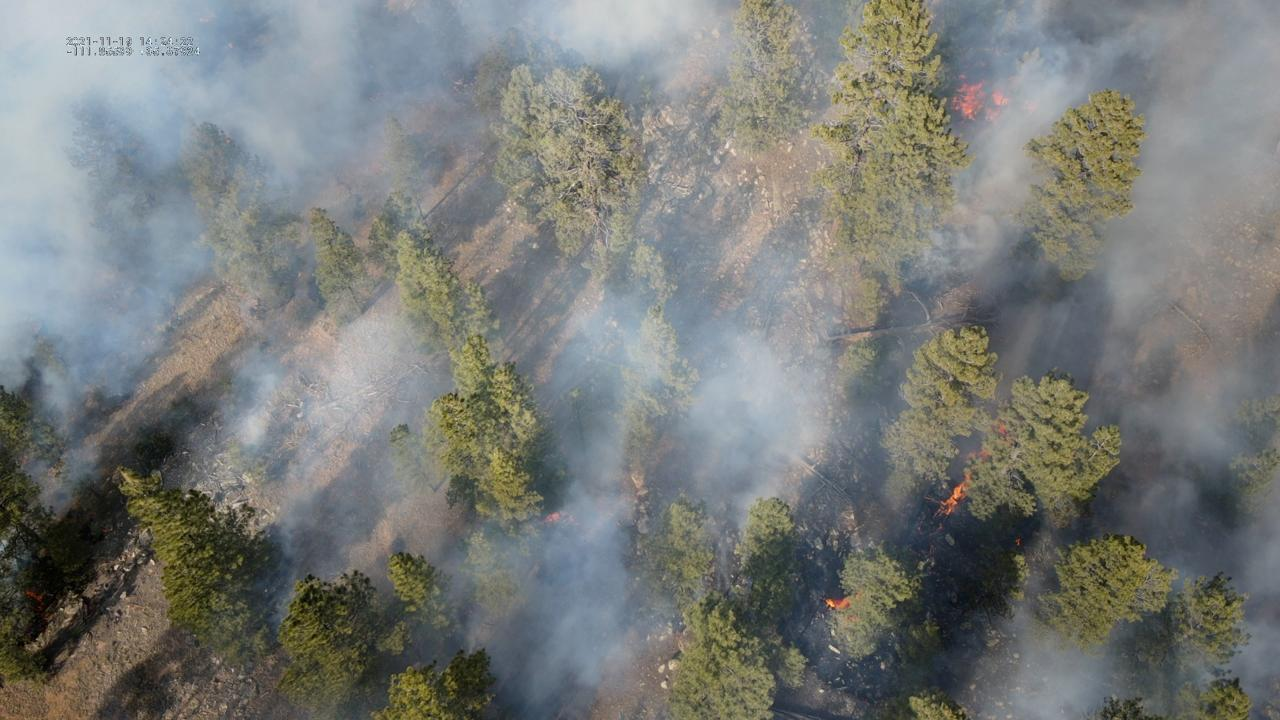fire: (950, 74, 1008, 122), (938, 473, 971, 518), (957, 448, 990, 461), (823, 597, 851, 611), (24, 589, 44, 606), (543, 510, 561, 525), (996, 421, 1007, 436), (1015, 536, 1022, 547)
smoke: (0, 0, 1280, 720)
